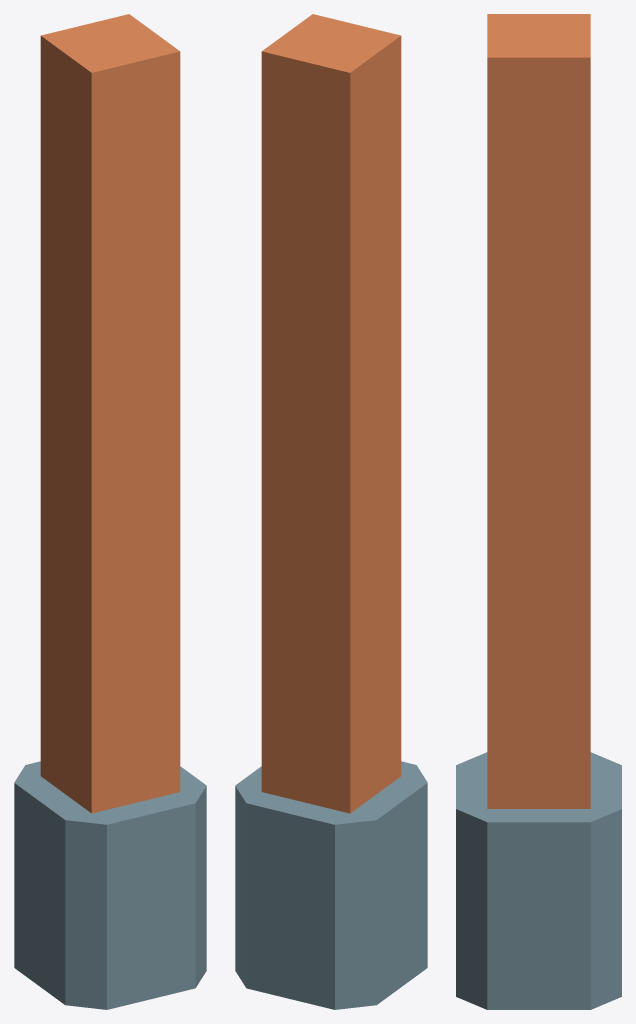
File: pillarWood.obj
3 renders of one model, left to right at view 1: azimuth 30°, elevation 25°; view 2: azimuth 150°, elevation 25°; view 3: azimuth 270°, elevation 25°, orthographic.
Visible parts, largest first — view 1: pillarWood; view 2: pillarWood; view 3: pillarWood.
Boxes of the visible parts, x1,y1,x2,y2 form: pillarWood: [14, 14, 206, 1009]; pillarWood: [235, 14, 427, 1009]; pillarWood: [456, 14, 621, 1009].
Size of the model in its own units: 0.16 by 1 by 0.16.
